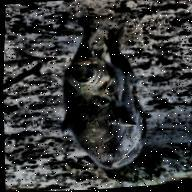boar: (53, 14, 152, 175)
